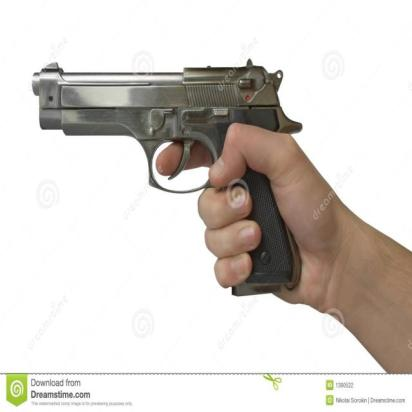Gun: (26, 51, 306, 302)
